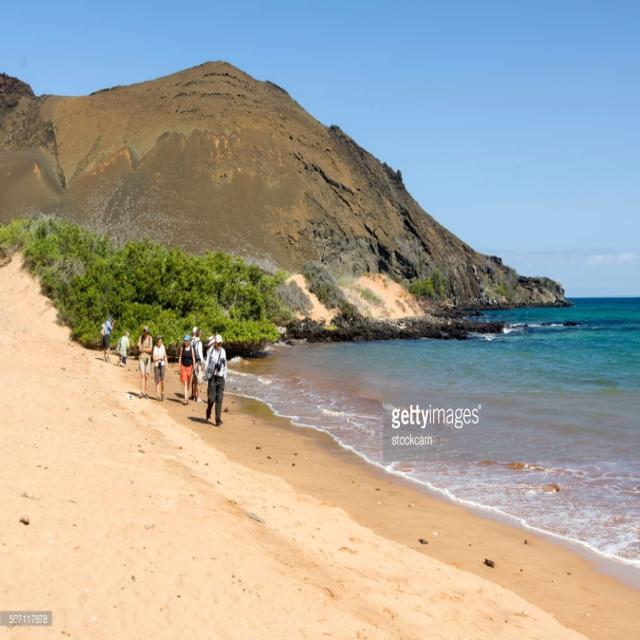body: (204, 333, 227, 428), (136, 323, 153, 400), (177, 332, 195, 404), (152, 333, 169, 403), (204, 336, 218, 406), (192, 328, 205, 403), (99, 314, 115, 363), (189, 324, 199, 400), (116, 330, 131, 368)
